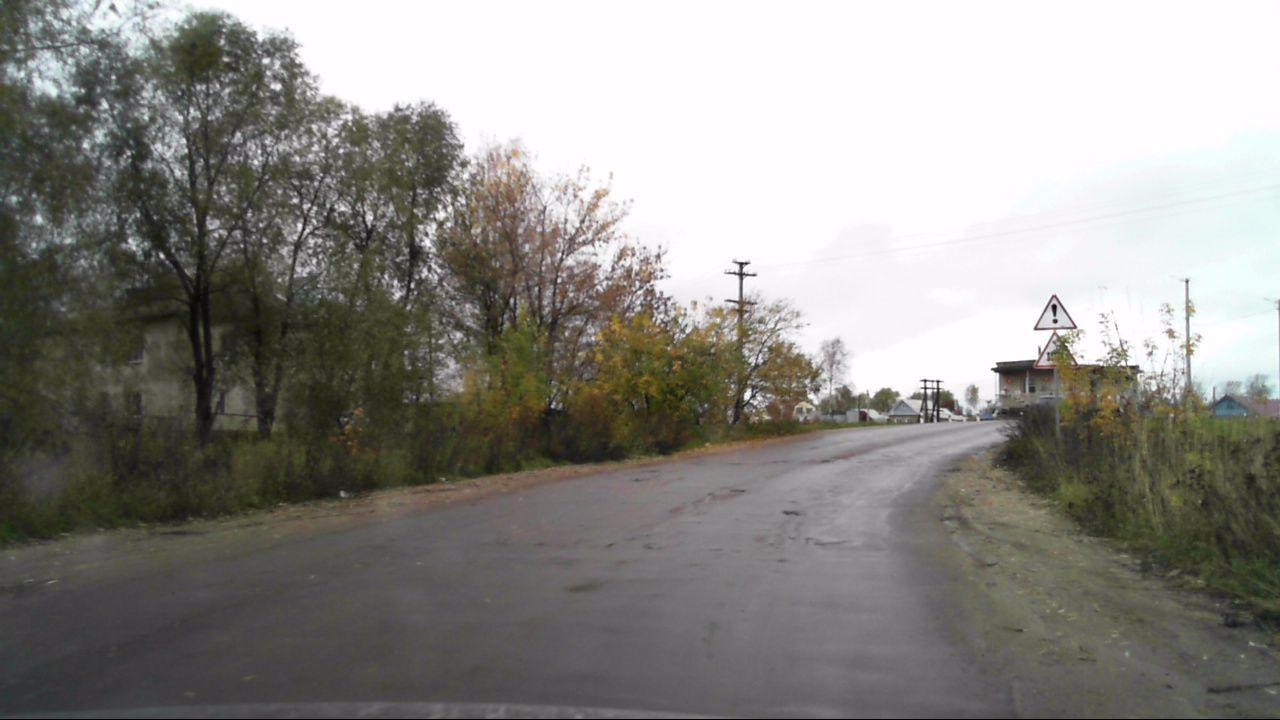1_1: (1034, 332, 1078, 370)
1_33: (1033, 294, 1075, 331)
